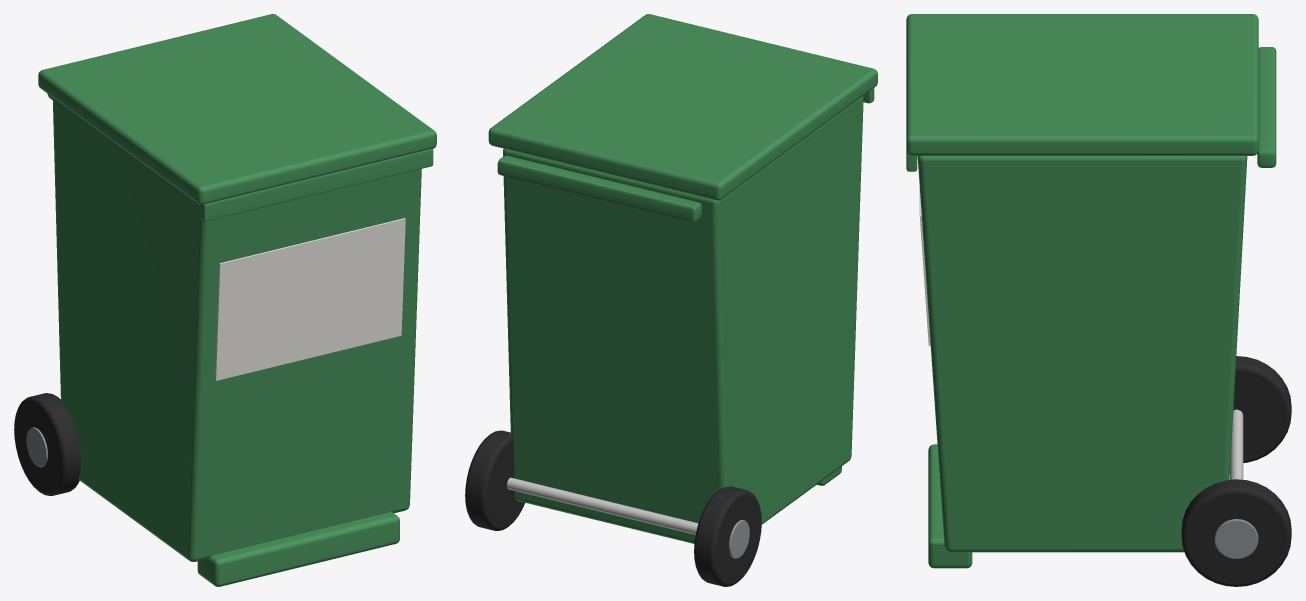
File: bin_metal.glb
3 renders of one model, left to right at view 1: azimuth 30°, elevation 25°; view 2: azimuth 150°, elevation 25°; view 3: azimuth 270°, elevation 25°, orthographic. The views are drawn at different scales.
Parts seen in each view (by area): view 1: SM_bin_metal; view 2: SM_bin_metal; view 3: SM_bin_metal.
Part boxes in pixels (x1,y1,x2,y2): SM_bin_metal: (14,14,436,586); SM_bin_metal: (465,14,877,586); SM_bin_metal: (906,14,1291,586).
Bounding box in the file's own units: 0.588 × 0.895 × 0.7.
